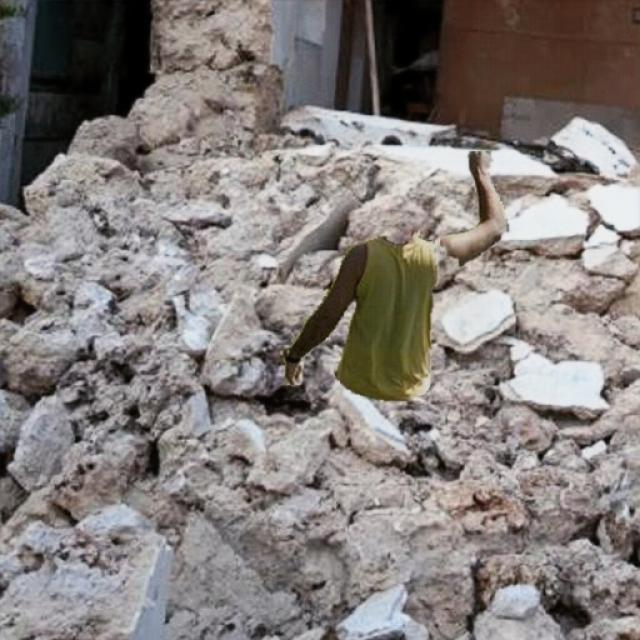Person in Rubble: (282, 151, 508, 400)
